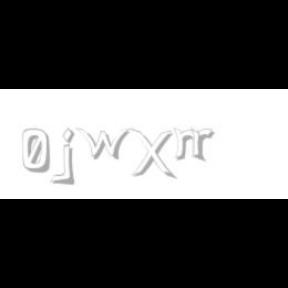0: (22, 128, 54, 174)
X: (130, 128, 174, 180)
j: (60, 128, 88, 186)
n: (172, 128, 206, 162)
r: (190, 128, 218, 158)
w: (76, 128, 134, 160)
